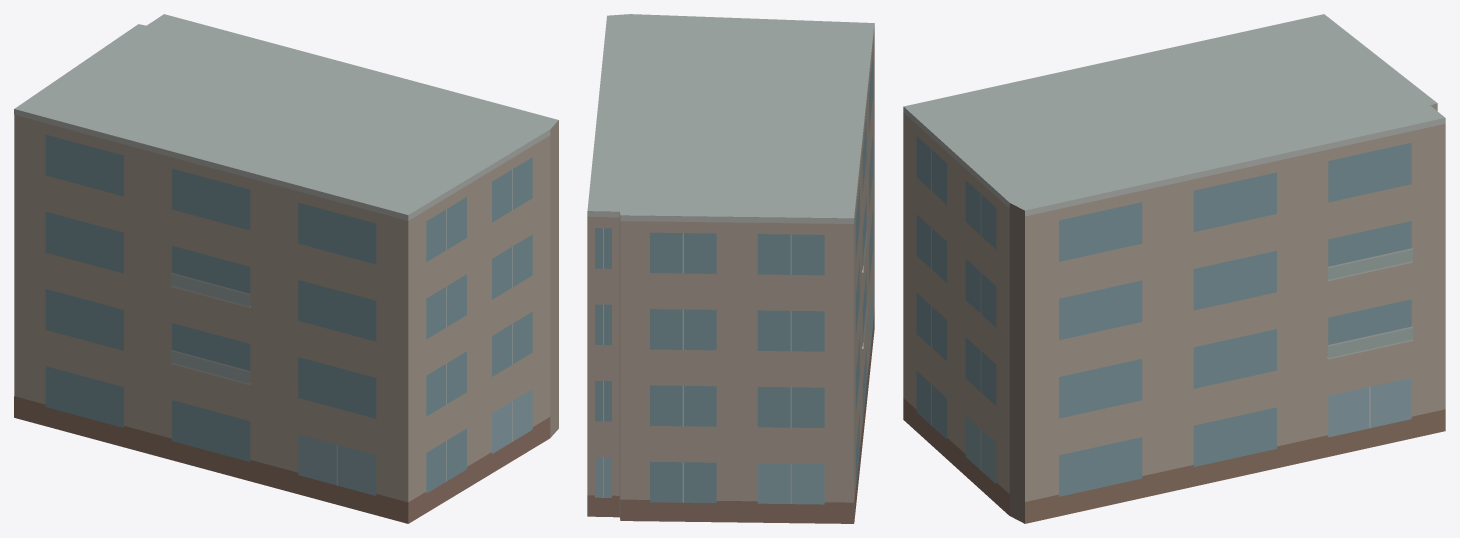
The model's file is survey-upis-32743112.glb.
3 views of the same model, side by side, from view 1: azimuth 30°, elevation 25°; view 2: azimuth 150°, elevation 25°; view 3: azimuth 270°, elevation 25° (orthographic). The views are drawn at different scales.
Parts seen in each view (by area): view 1: survey-upis-32743112.tmp; view 2: survey-upis-32743112.tmp; view 3: survey-upis-32743112.tmp.
Boxes of the visible parts, x1,y1,x2,y2 form: survey-upis-32743112.tmp: (14, 14, 558, 523); survey-upis-32743112.tmp: (587, 14, 874, 523); survey-upis-32743112.tmp: (903, 14, 1445, 523).
Size of the model in its own units: 17.51 by 13 by 20.4.
